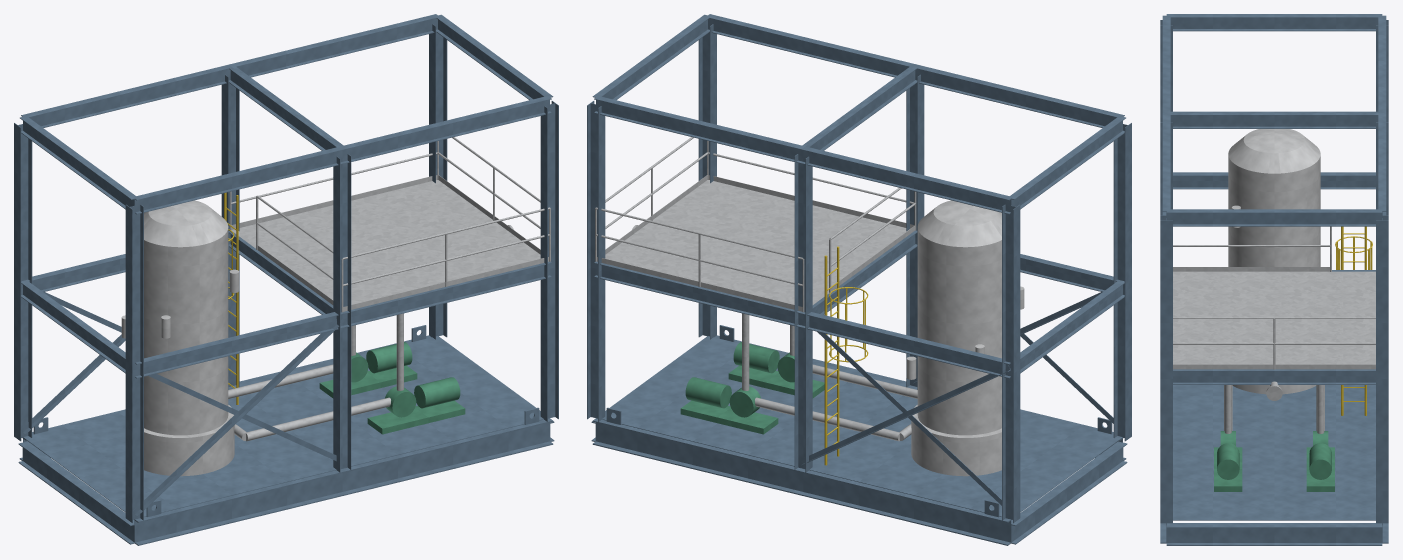
Rendered from process-skid.glb.
3 renders of one model, left to right at view 1: azimuth 30°, elevation 25°; view 2: azimuth 150°, elevation 25°; view 3: azimuth 270°, elevation 25°, orthographic. The views are drawn at different scales.
Parts seen in each view (by area): view 1: ModuleFrame, SkidBase, UpperDeck&Handrail, Vessel(context), PumpSet(context), InterconnectingPiping, LiftingLugs, Ladder; view 2: ModuleFrame, SkidBase, UpperDeck&Handrail, Vessel(context), PumpSet(context), InterconnectingPiping, Ladder, LiftingLugs; view 3: ModuleFrame, SkidBase, UpperDeck&Handrail, Vessel(context), PumpSet(context), InterconnectingPiping, Ladder.
Part boxes in pixels (box(x1,y1,x2,y2)): ModuleFrame: box(14, 14, 558, 523); SkidBase: box(18, 335, 554, 545); UpperDeck&Handrail: box(229, 137, 550, 312); Vessel(context): box(121, 200, 239, 476); PumpSet(context): box(319, 342, 465, 434); InterconnectingPiping: box(228, 225, 513, 441); LiftingLugs: box(33, 325, 539, 520); Ladder: box(224, 192, 238, 404); ModuleFrame: box(587, 14, 1131, 523); SkidBase: box(591, 335, 1127, 545); UpperDeck&Handrail: box(595, 137, 916, 312); Vessel(context): box(906, 200, 1024, 476); PumpSet(context): box(680, 342, 824, 434); InterconnectingPiping: box(632, 225, 917, 441); Ladder: box(824, 246, 868, 465); LiftingLugs: box(606, 325, 1112, 520); ModuleFrame: box(1160, 14, 1388, 523); SkidBase: box(1160, 385, 1388, 545); UpperDeck&Handrail: box(1173, 226, 1375, 369); Vessel(context): box(1228, 129, 1320, 394); PumpSet(context): box(1214, 431, 1334, 491); InterconnectingPiping: box(1224, 381, 1324, 433); Ladder: box(1335, 226, 1372, 415).
Bounding box in the file's own units: 9.49 × 7.15 × 4.45.
Materials: 5 (5 with a texture image).
